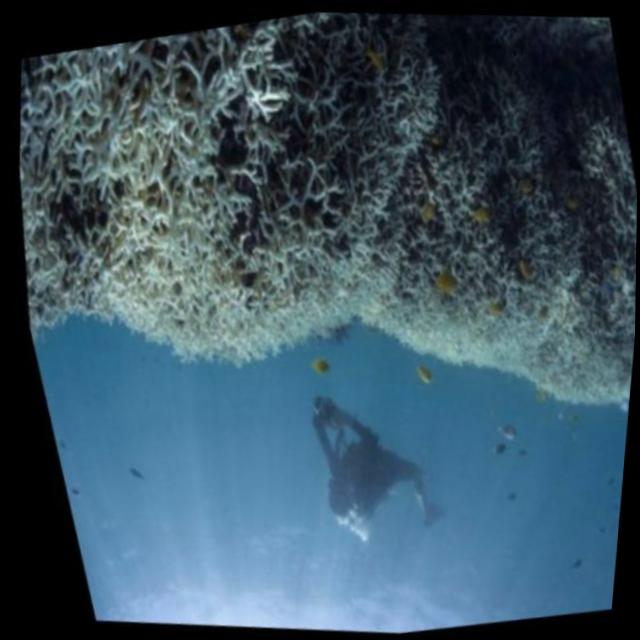Dead Coral: (132, 0, 640, 500), (221, 0, 640, 491), (4, 173, 133, 334)
